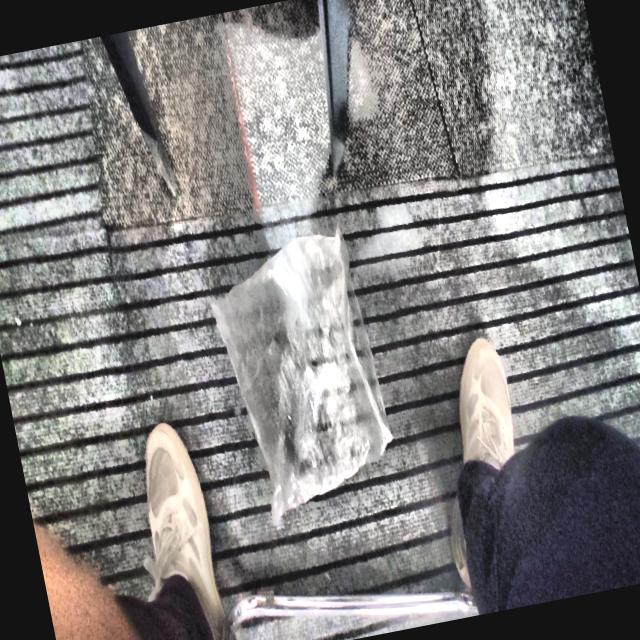plastic bag: (211, 228, 392, 523)
